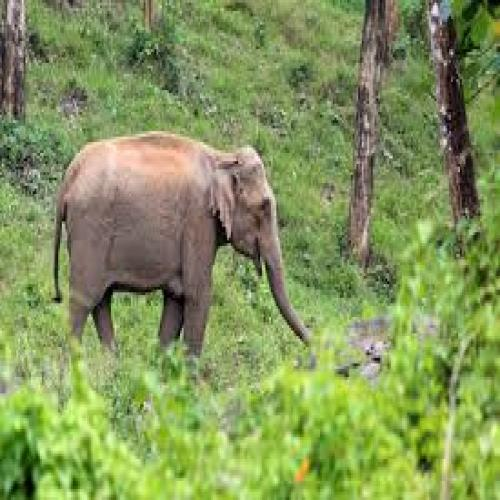asian_elephant-endangered: (51, 131, 314, 350)
